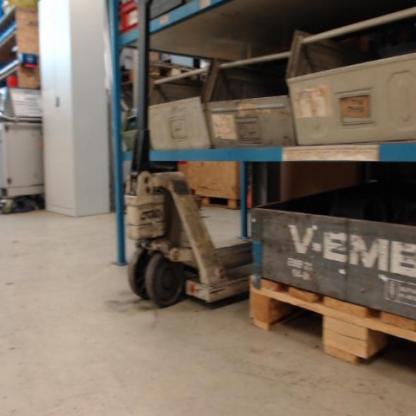pallet: (248, 273, 416, 371), (118, 60, 198, 89), (198, 195, 242, 211)
pallet_truck: (118, 0, 262, 318)
